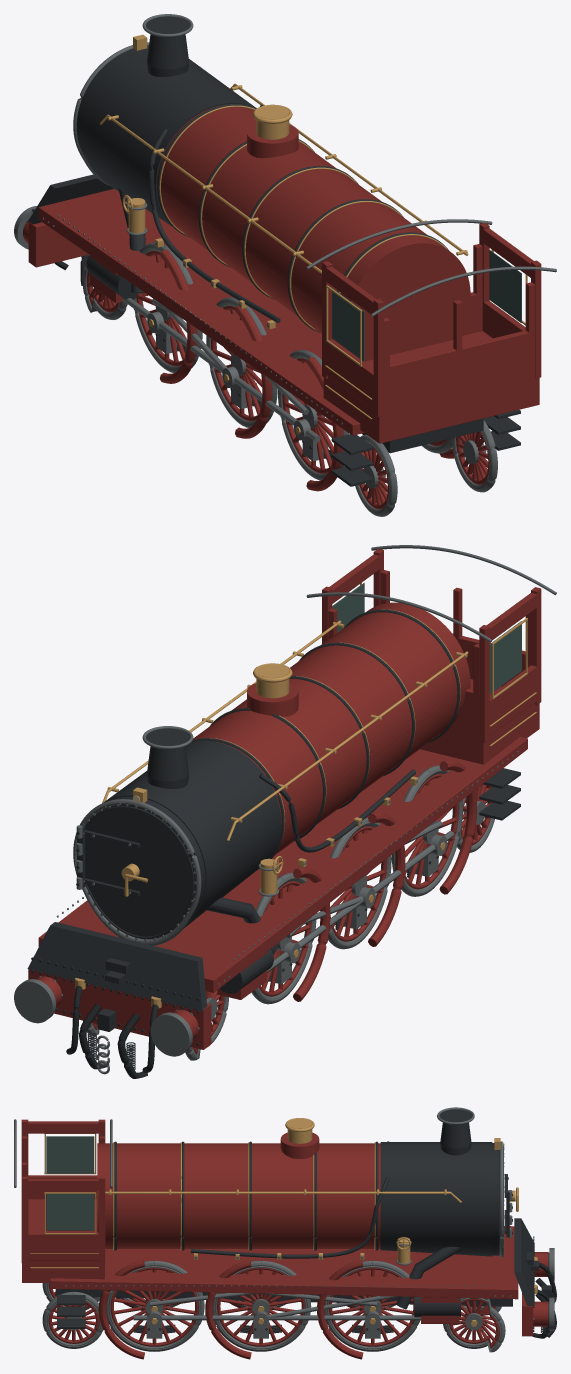
Rendered from locomotive.glb.
3 renders of one model, top to bottom at view 1: azimuth 30°, elevation 25°; view 2: azimuth 150°, elevation 25°; view 3: azimuth 270°, elevation 25°, orthographic. The views are drawn at different scales.
Visible parts, largest first — view 1: locomotive_scarlet.006, locomotive_black.006, locomotive_steel.006, locomotive_brass.006, locomotive_glass.006; view 2: locomotive_scarlet.006, locomotive_black.006, locomotive_steel.006, locomotive_brass.006, locomotive_glass.006, locomotive_soot.006; view 3: locomotive_scarlet.006, locomotive_black.006, locomotive_steel.006, locomotive_brass.006, locomotive_glass.006, locomotive_soot.006.
Boxes of the visible parts, x1,y1,x2,y2 form: locomotive_scarlet.006: (23,104,541,509); locomotive_black.006: (23,16,520,486); locomotive_steel.006: (14,14,556,516); locomotive_brass.006: (99,34,527,475); locomotive_glass.006: (332,250,521,361); locomotive_scarlet.006: (28,548,541,1054); locomotive_black.006: (27,609,520,1070); locomotive_steel.006: (14,545,556,1074); locomotive_brass.006: (75,582,536,1008); locomotive_glass.006: (332,582,521,693); locomotive_soot.006: (66,985,158,1078); locomotive_scarlet.006: (21,1119,548,1359); locomotive_black.006: (55,1109,551,1334); locomotive_steel.006: (14,1107,554,1352); locomotive_brass.006: (30,1118,537,1326); locomotive_glass.006: (46,1136,94,1230); locomotive_soot.006: (532,1262,556,1338).
Size of the model in its own units: 3.06 by 4.68 by 10.45.
